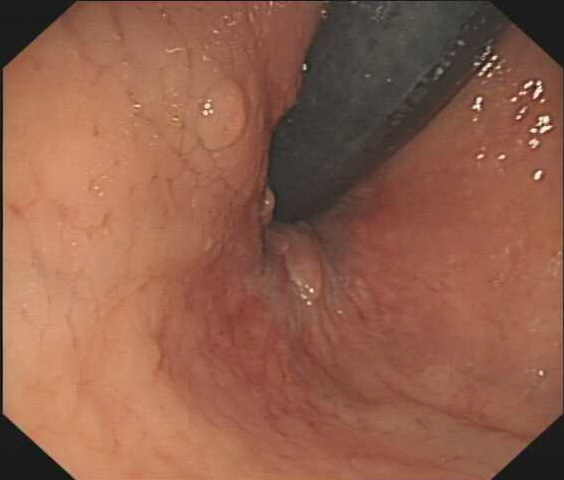others: (270, 223, 326, 303), (195, 74, 248, 154)
